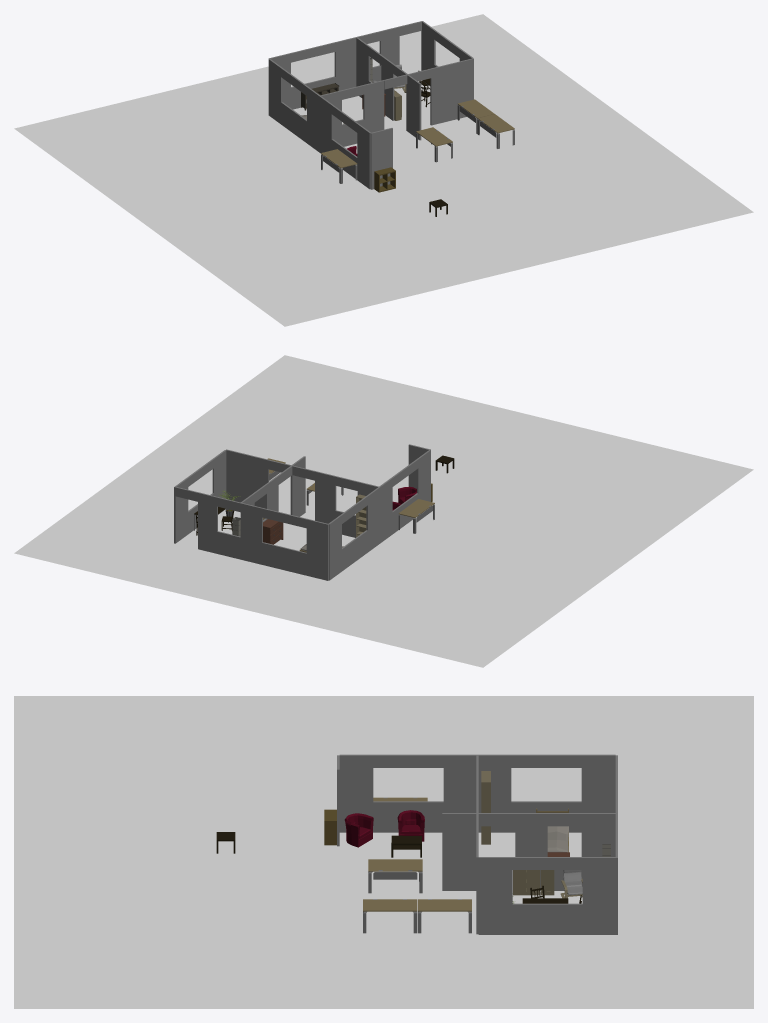
File: mardi.dae
3 views of the same model, one above another, from view 1: azimuth 30°, elevation 25°; view 2: azimuth 150°, elevation 25°; view 3: azimuth 270°, elevation 25° (orthographic). The views are drawn at different scales.
Parts seen in each view (by area): view 1: Plane, C6_plein_ext_P, office_desk_002, office_desk_003_001, office_desk_003; view 2: Plane, C6_plein_ext_P, office_desk_003_001; view 3: Plane, C6_plein_ext_P, office_desk_001, office_desk_002, office_desk_003, IKEA_armchair_EKTORP_001, IKEA_cupboard_BILLY_3, IKEA_armchair_EKTORP, IKEA_bed_FJELLSE, IKEA_cupboard_BILLY_1, IKEA_chair_PELLO_001.
Boxes of the visible parts, x1,y1,x2,y2 form: Plane: [14, 14, 753, 326]; C6_plein_ext_P: [268, 21, 473, 189]; office_desk_002: [478, 114, 514, 148]; office_desk_003_001: [321, 149, 357, 183]; office_desk_003: [457, 99, 494, 134]; Plane: [14, 355, 753, 667]; C6_plein_ext_P: [174, 444, 430, 580]; office_desk_003_001: [398, 499, 434, 533]; Plane: [14, 696, 753, 1008]; C6_plein_ext_P: [337, 754, 617, 934]; office_desk_001: [368, 859, 422, 893]; office_desk_002: [363, 899, 417, 933]; office_desk_003: [418, 899, 471, 933]; IKEA_armchair_EKTORP_001: [344, 813, 373, 847]; IKEA_cupboard_BILLY_3: [513, 870, 539, 895]; IKEA_armchair_EKTORP: [397, 810, 424, 841]; IKEA_bed_FJELLSE: [536, 808, 568, 852]; IKEA_cupboard_BILLY_1: [481, 771, 490, 844]; IKEA_chair_PELLO_001: [560, 870, 582, 898].
Bounding box in the file's own units: 21.8 × 21.8 × 2.52.
